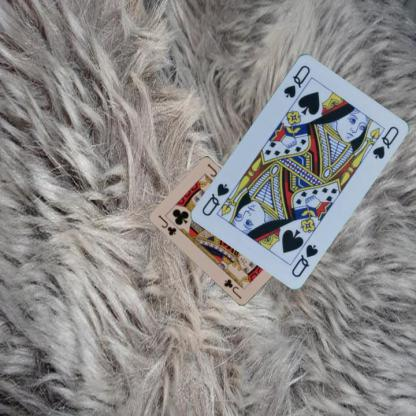Jc: (155, 212, 178, 237)
Qs: (288, 241, 320, 278), (281, 62, 311, 99)
